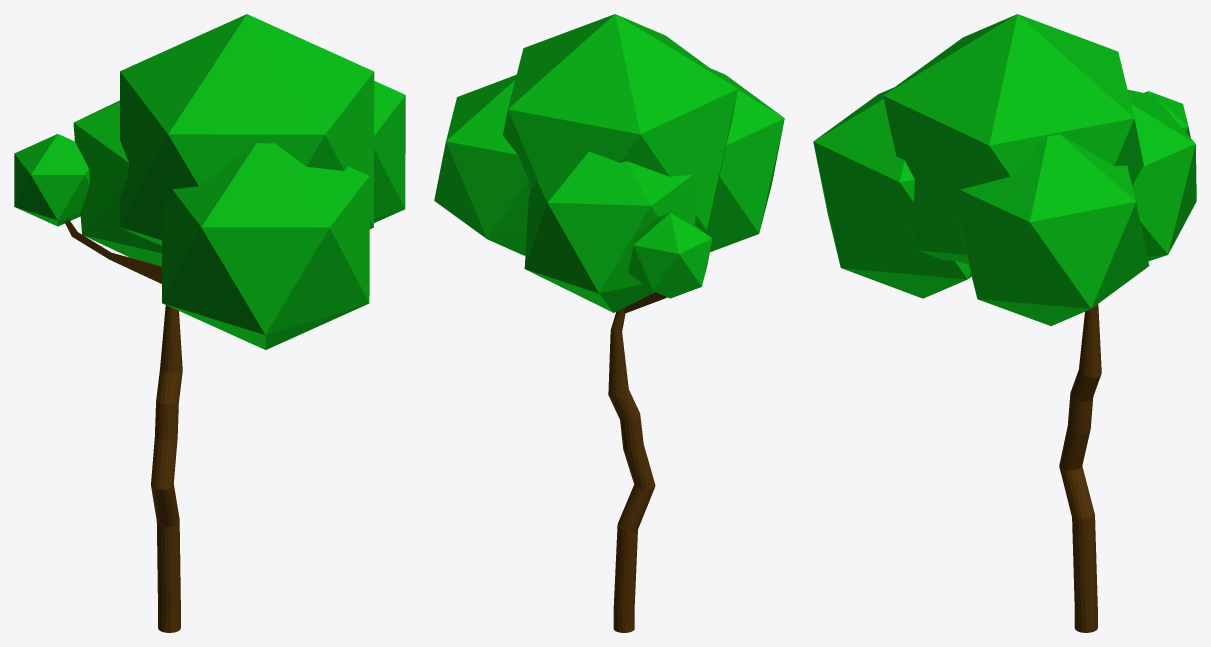
The model's file is tree_1.fbx.
3 renders of one model, left to right at view 1: azimuth 30°, elevation 25°; view 2: azimuth 150°, elevation 25°; view 3: azimuth 270°, elevation 25°, orthographic. The views are drawn at different scales.
Parts seen in each view (by area): view 1: Tree3; view 2: Tree3; view 3: Tree3.
Boxes of the visible parts, box(x1,y1,x2,y2) form: Tree3: box(14, 14, 405, 632); Tree3: box(434, 14, 784, 632); Tree3: box(813, 14, 1196, 632).
Bounding box in the file's own units: 246 × 450 × 246.
